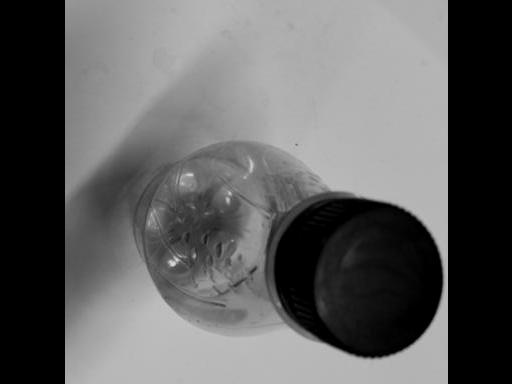bottle: (120, 138, 448, 363)
